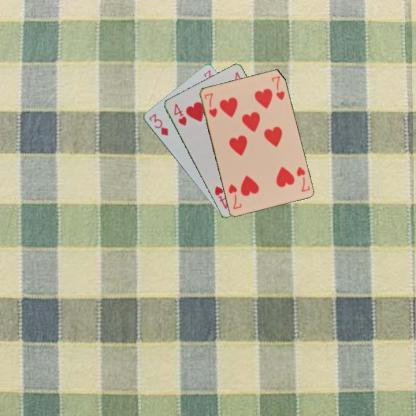3d: (146, 111, 169, 137)
4h: (171, 101, 188, 128)
7h: (293, 163, 311, 193), (202, 90, 218, 119)
